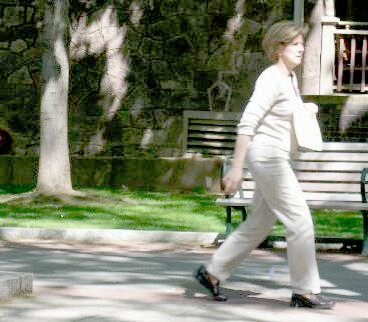person: (199, 19, 339, 308)
